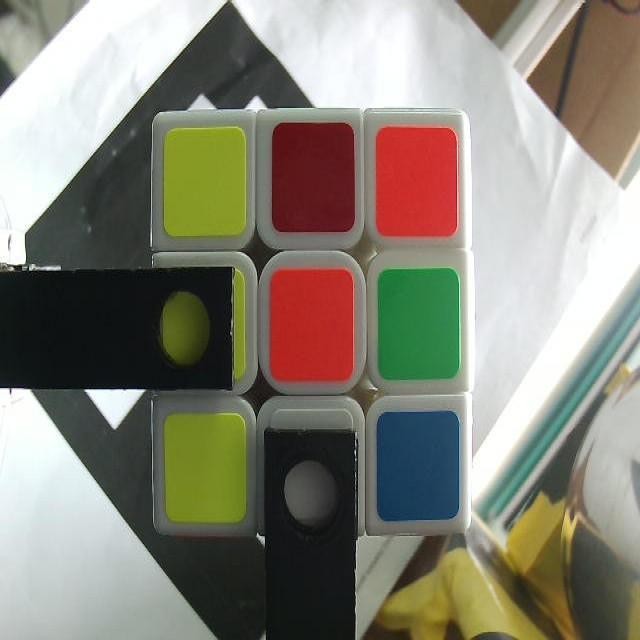b: (379, 411, 461, 516)
g: (380, 267, 458, 372)
o: (275, 274, 352, 378), (378, 131, 452, 236)
r: (274, 125, 356, 234)
w: (274, 410, 358, 530)
y: (163, 272, 247, 385), (167, 414, 247, 522), (167, 129, 243, 232)
